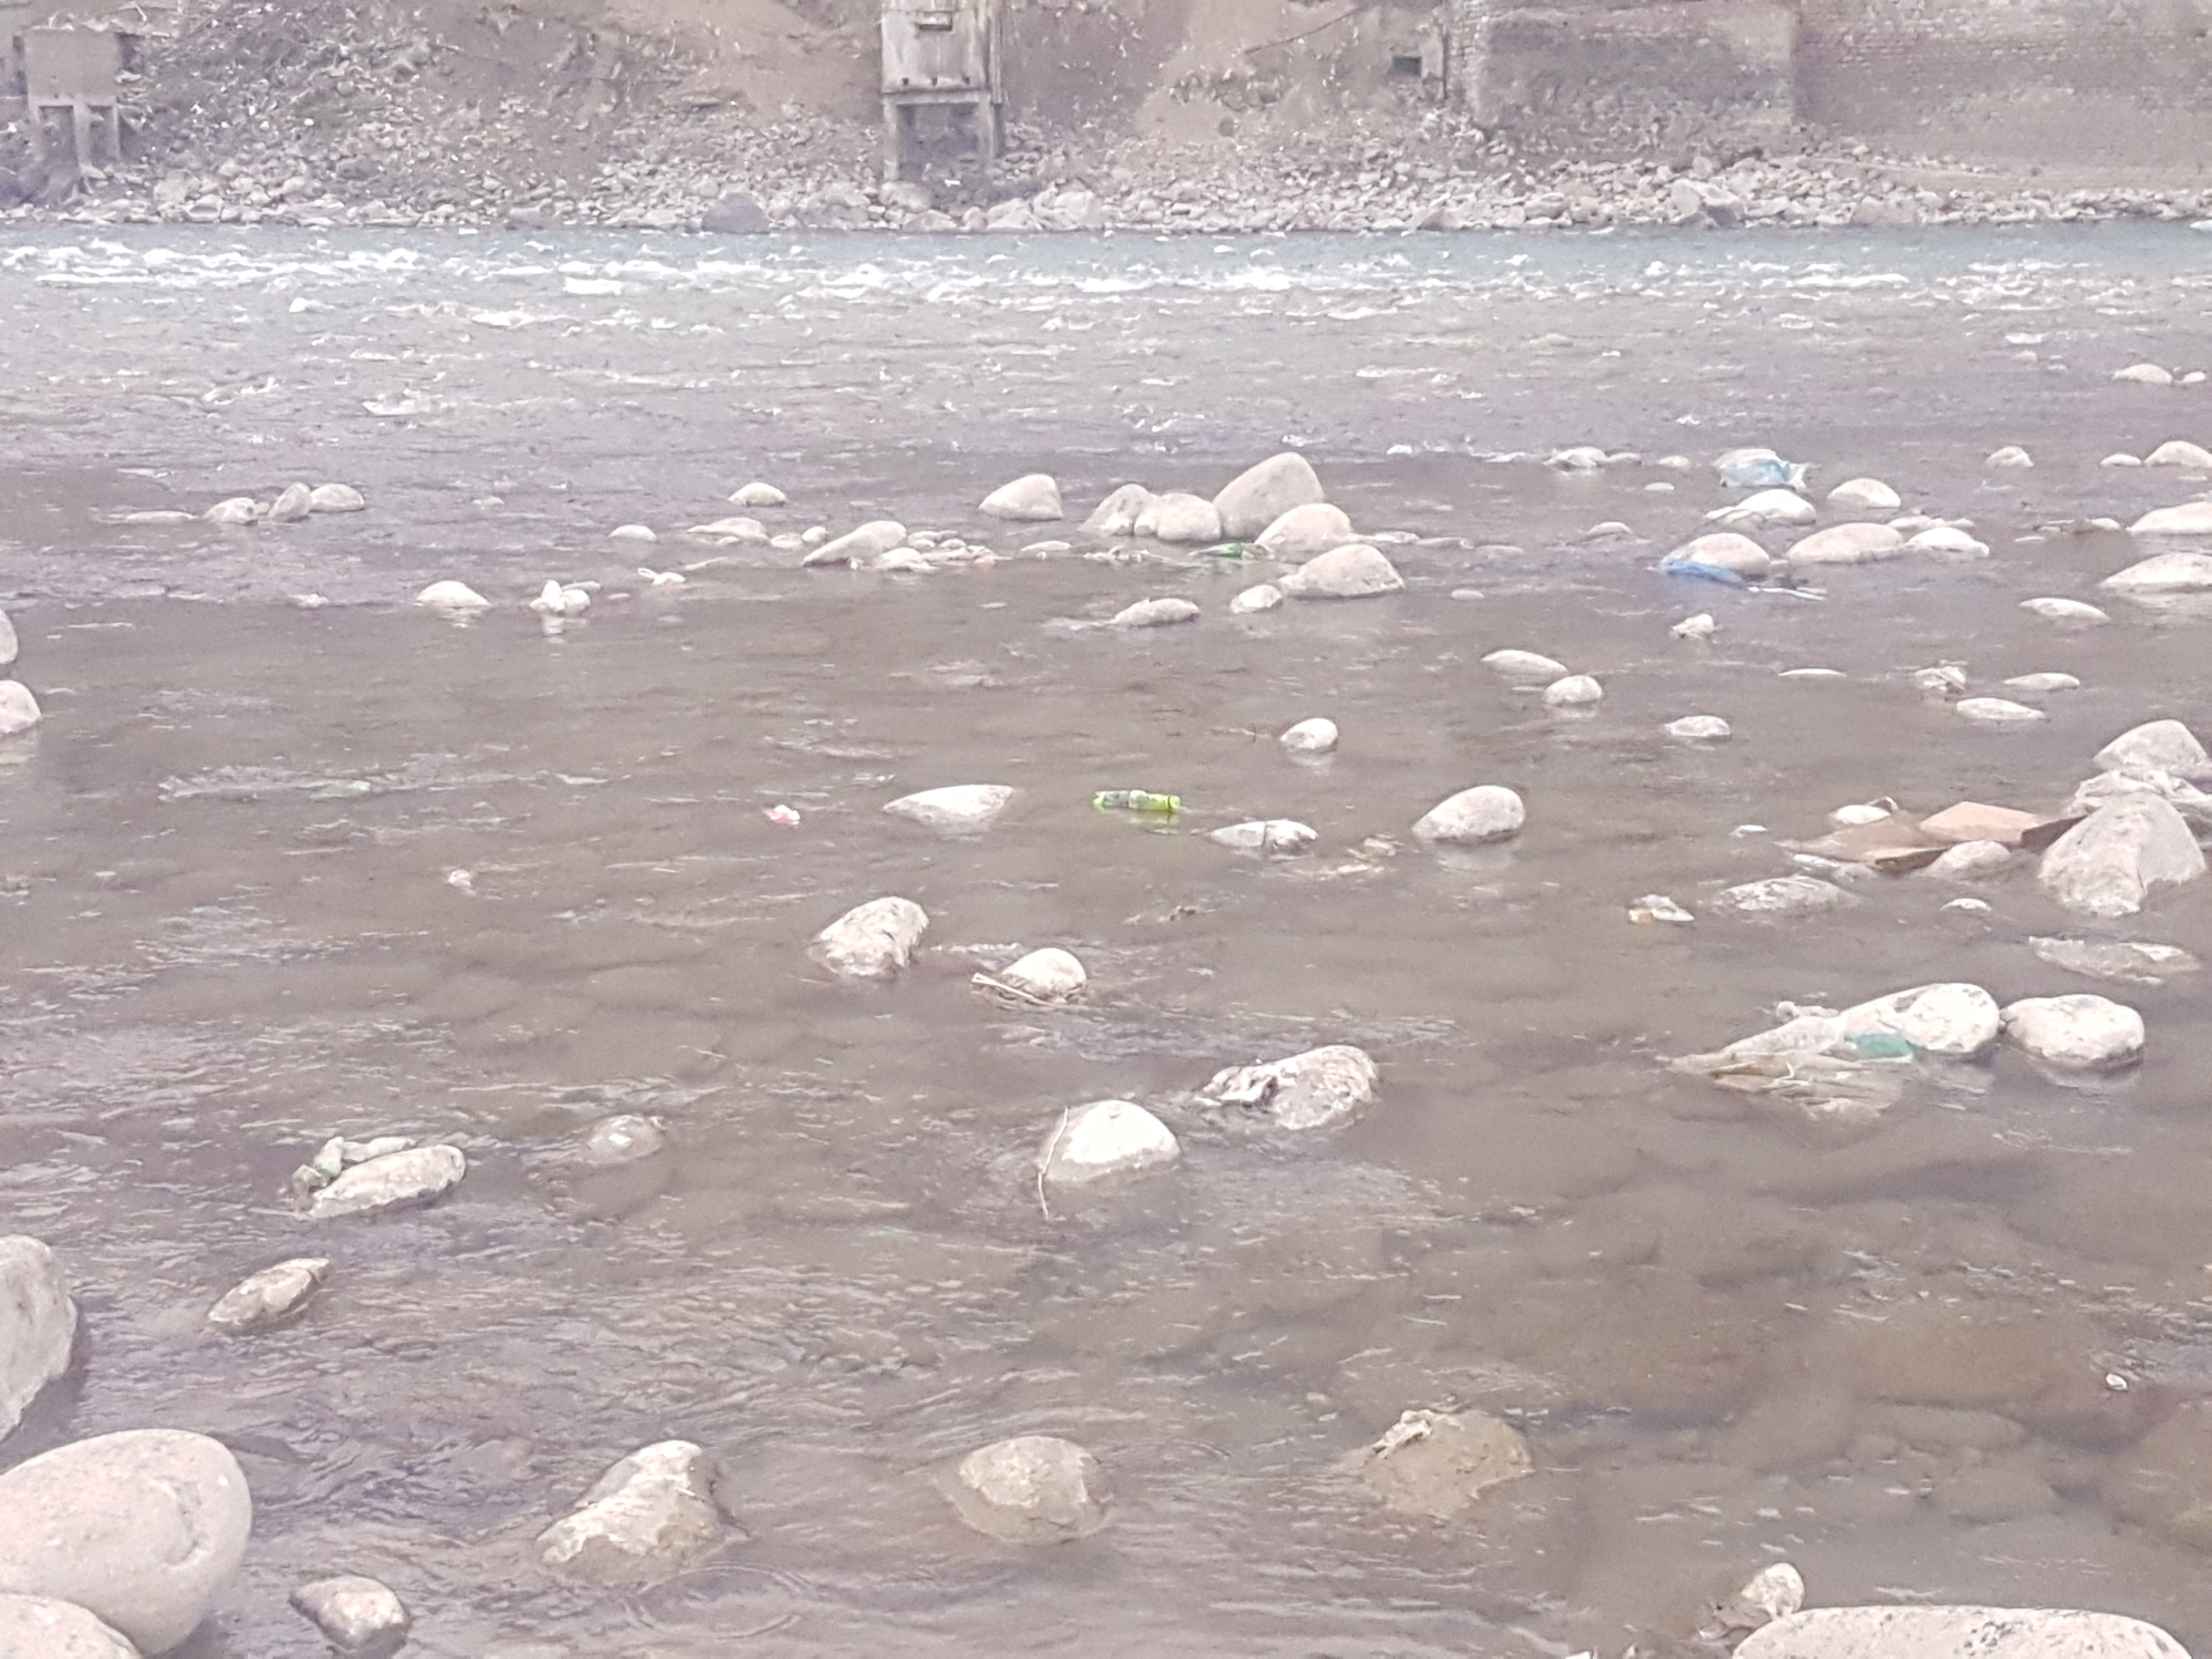Plastic Bottle: (573, 1112, 667, 1166), (1092, 789, 1179, 810), (1193, 542, 1242, 559)
